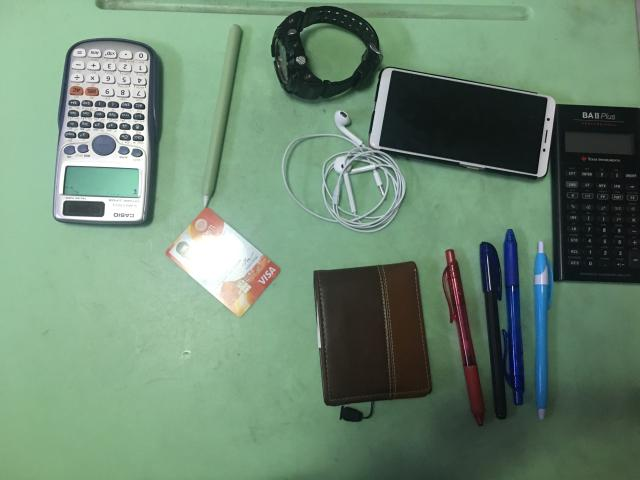Mobile phone: (369, 68, 555, 179)
Pen: (442, 249, 485, 425), (480, 243, 506, 419), (504, 229, 525, 405), (534, 241, 554, 420)
Wallet: (314, 261, 431, 406)
Watch: (271, 6, 382, 100)
wire: (282, 111, 406, 232)
